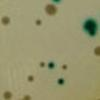Blue_green: (78, 17, 100, 32), (46, 59, 58, 72), (85, 27, 97, 39), (55, 75, 66, 87), (49, 0, 64, 4)
brown: (41, 3, 58, 16), (0, 15, 13, 27), (0, 90, 13, 100), (32, 18, 45, 27), (92, 44, 100, 58), (25, 73, 35, 84), (21, 92, 33, 100), (59, 63, 70, 71), (36, 60, 45, 68)
